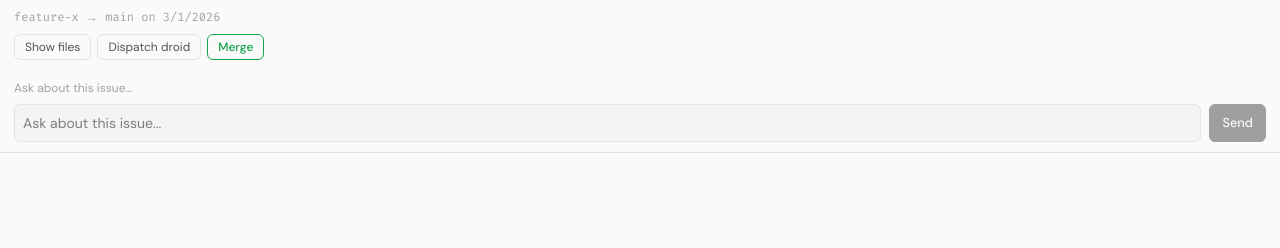
Test: PrCard › fetches and shows files on button click
The width and height of the screenshot is (1280, 248).
Step 1. Click the button "Show files" → (53, 47), box [14,34,91,60]
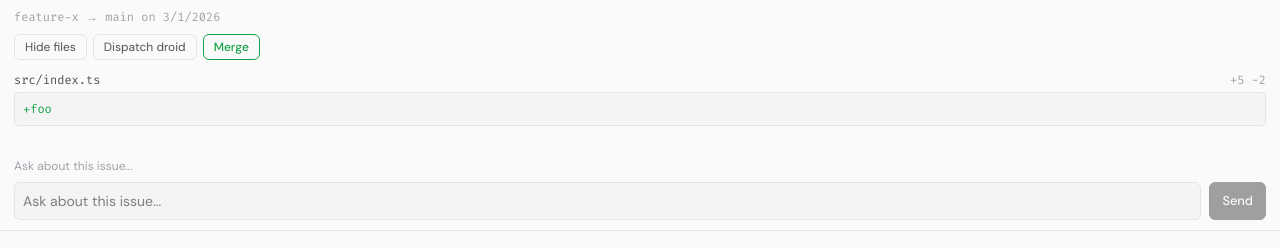
Now the text "src/index.ts" is shown, box [14,72,100,88]
